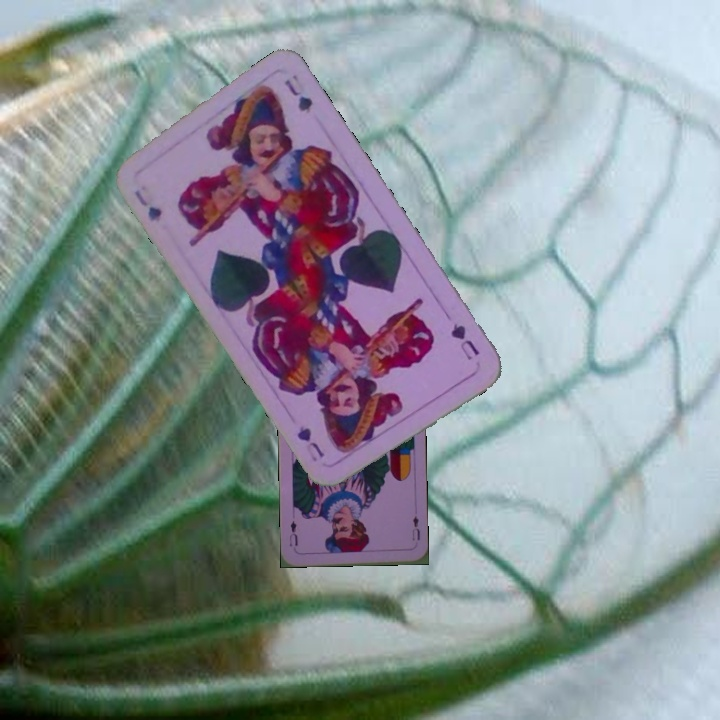EU: (408, 512, 422, 543)
GU: (446, 319, 482, 364), (130, 186, 165, 225)
